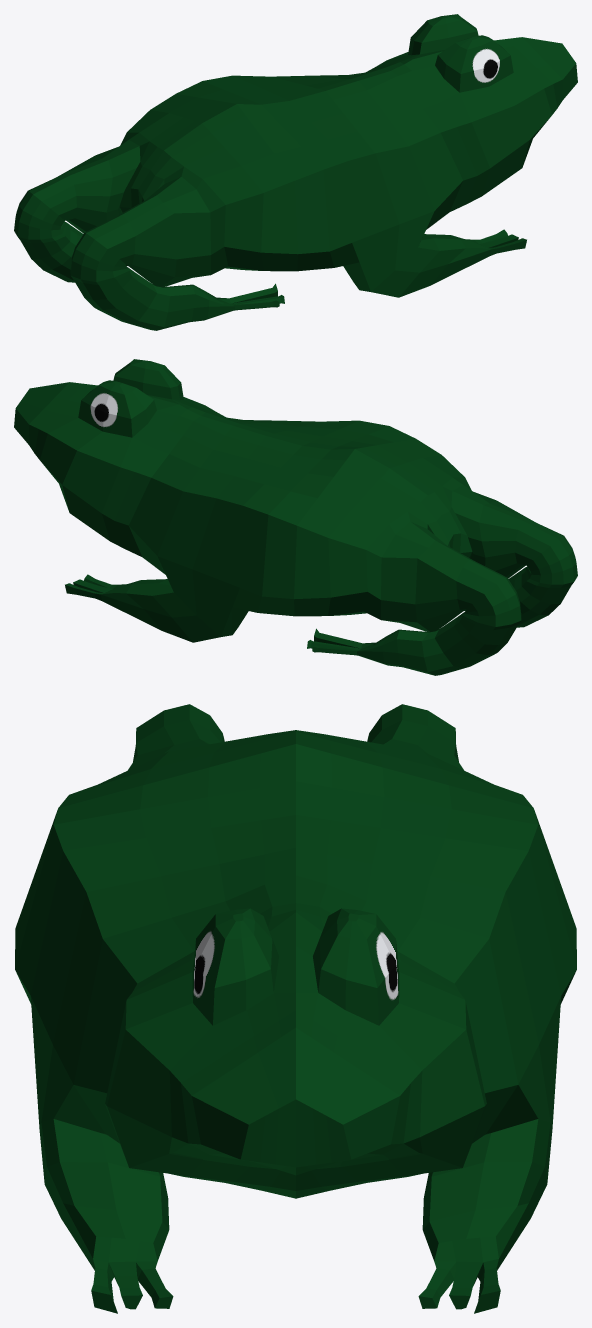
The picture shows the model from 3 angles, top to bottom: view 1: azimuth 30°, elevation 25°; view 2: azimuth 150°, elevation 25°; view 3: azimuth 270°, elevation 25°; orthographic projection. The views are drawn at different scales.
Parts seen in each view (by area): view 1: Cube; view 2: Cube; view 3: Cube.
Part boxes in pixels (bbox=[...]): Cube: bbox=[14, 14, 577, 330]; Cube: bbox=[14, 359, 577, 675]; Cube: bbox=[15, 704, 576, 1313].
Bounding box in the file's own units: 4.54 × 1.69 × 2.12.
Materials: 1 (1 with a texture image).
